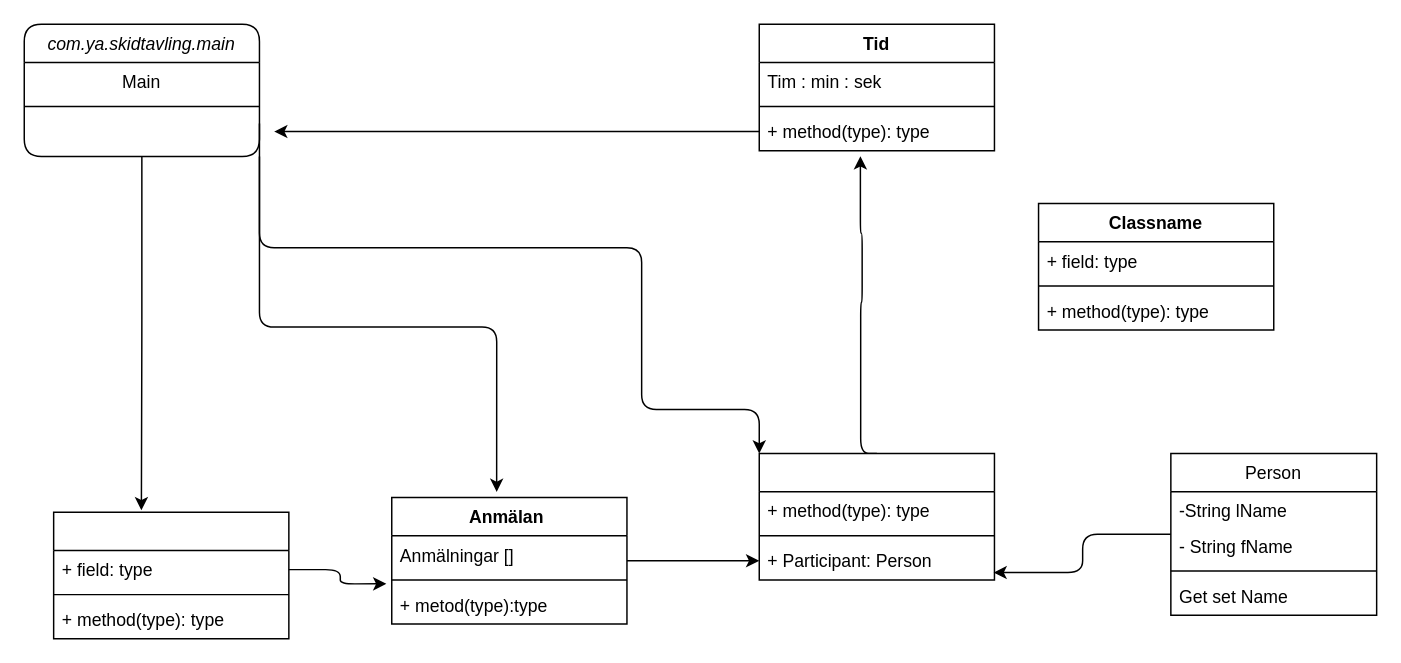
Some shapes in this 1401 by 663 pixel diagram are drawn without their labels. The box of each missing label's shape, as (x1, y1, x2, y2) in pixels:
Deltagare: (758, 452, 994, 580)
Längdskidtävling: (52, 511, 289, 639)
